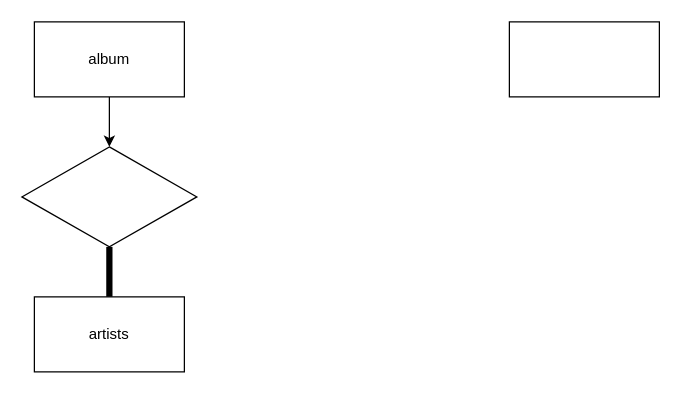
Some shapes in this 681 by 394 pixel diagram are drawn without their labels. The box of each missing label's shape, as (x1, y1, x2, y2) in pixels:
belong to: (21, 146, 197, 247)
user account: (508, 21, 659, 97)
